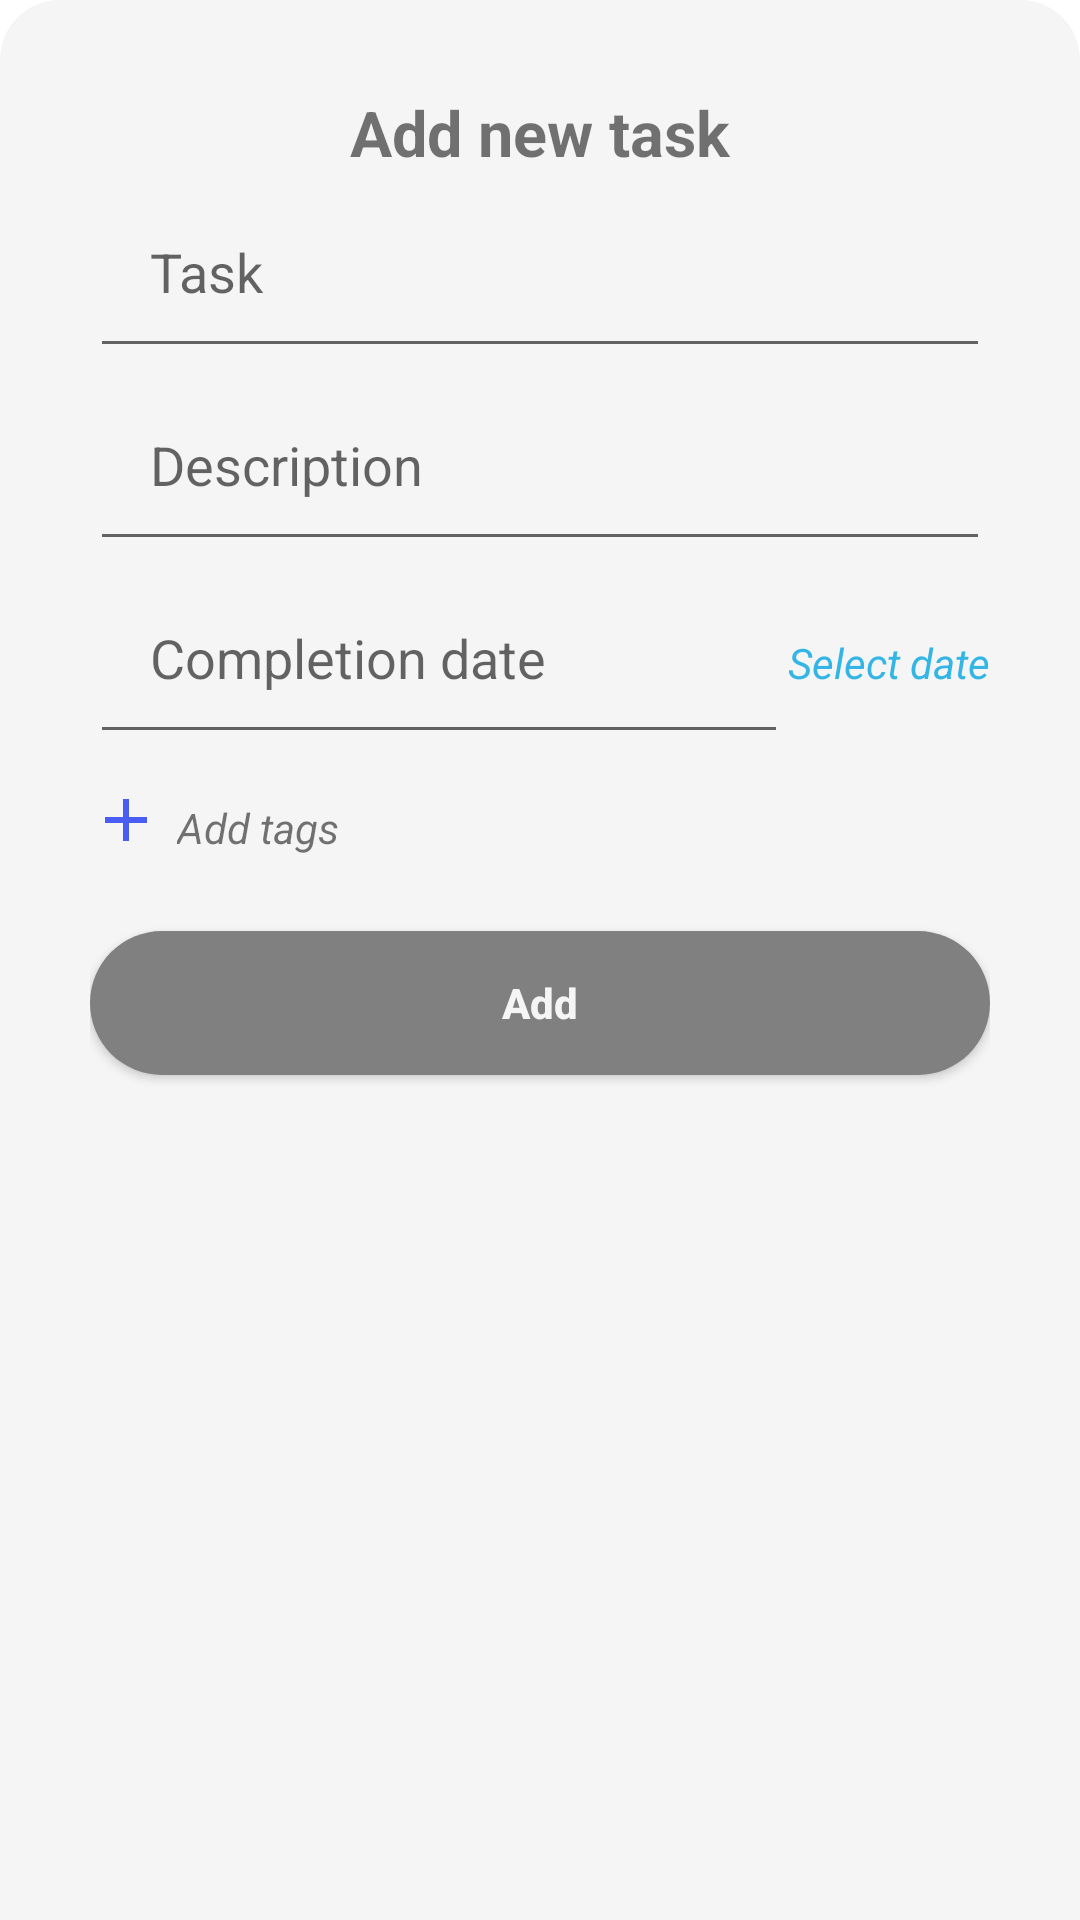

Locate icon controls on the screen. Image size 1080x1920, boxes as bbox=(x1, y1, x2, y2).
plus: bbox=(105, 799, 147, 841)
